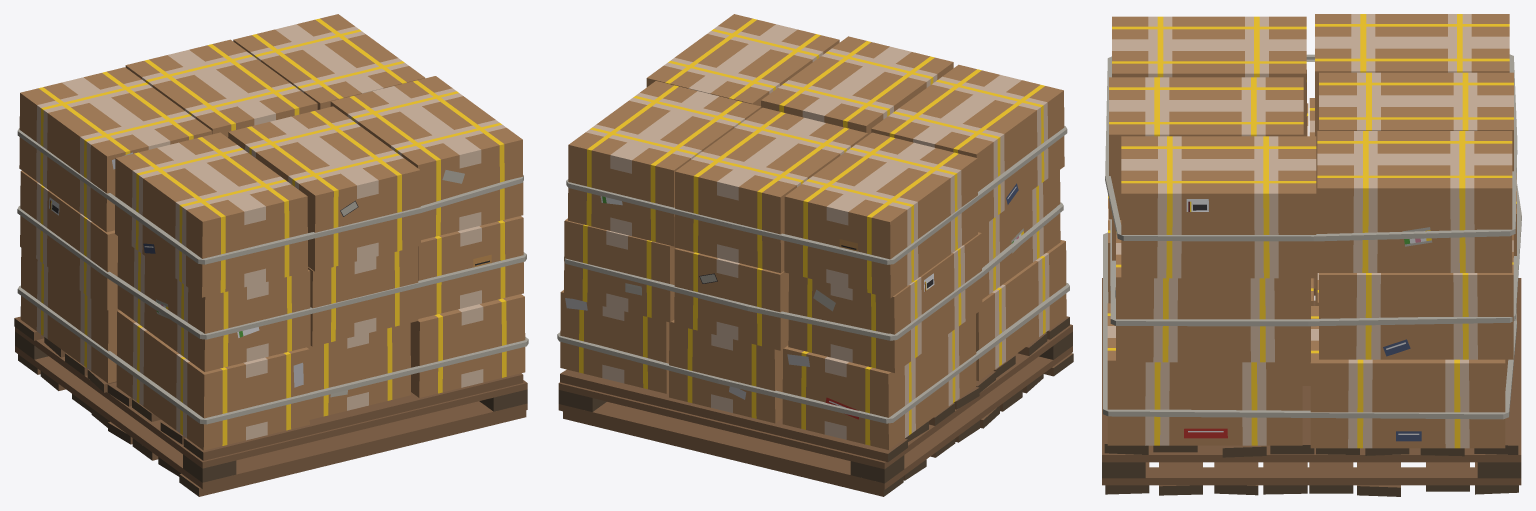
Rendered from SM_carton_box_pallete.gltf.
3 views of the same model, side by side, from view 1: azimuth 30°, elevation 25°; view 2: azimuth 150°, elevation 25°; view 3: azimuth 270°, elevation 25° (orthographic). The views are drawn at different scales.
Visible parts, largest first — view 1: SM_carton_box_pallete; view 2: SM_carton_box_pallete; view 3: SM_carton_box_pallete.
Boxes of the visible parts, bbox=[...] form: SM_carton_box_pallete: bbox=[14, 14, 528, 496]; SM_carton_box_pallete: bbox=[557, 14, 1073, 496]; SM_carton_box_pallete: bbox=[1102, 14, 1521, 496].
Size of the model in its own units: 2.1 by 1.61 by 2.01.
1 material, 1 textured.
